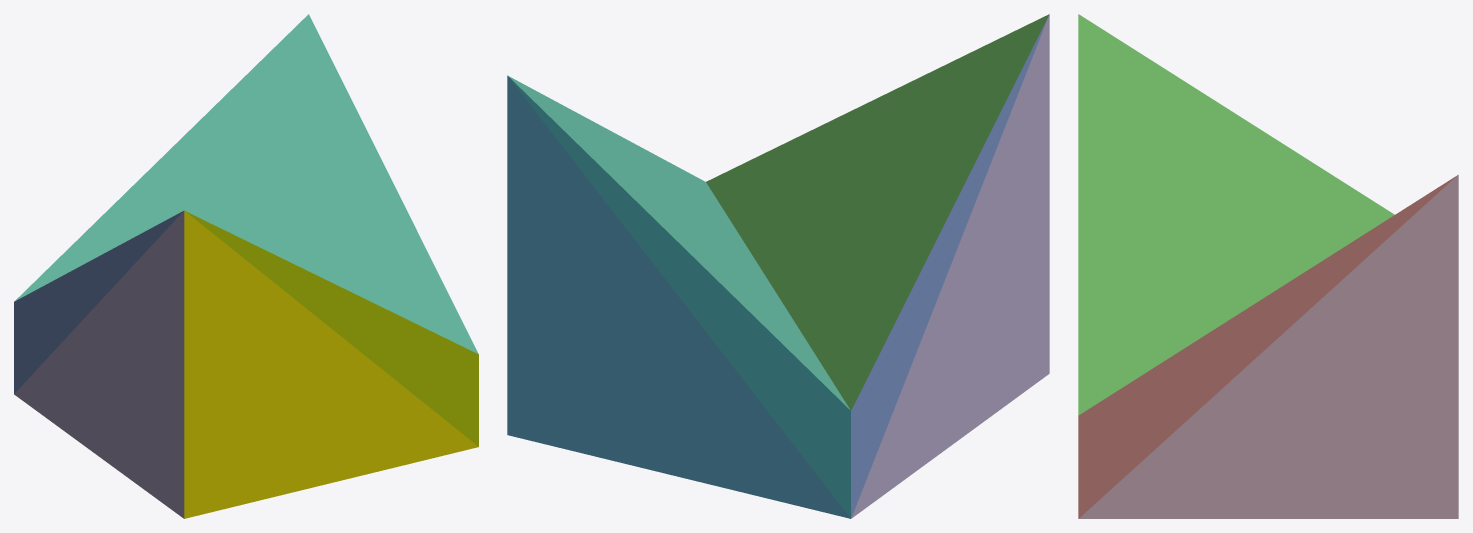
File: cube_bigdip.gltf
3 renders of one model, left to right at view 1: azimuth 30°, elevation 25°; view 2: azimuth 150°, elevation 25°; view 3: azimuth 270°, elevation 25°, orthographic. The views are drawn at different scales.
Visible parts, largest first — view 1: Cube.001; view 2: Cube.001; view 3: Cube.001.
Boxes of the visible parts, x1=… form: Cube.001: x1=14, y1=14, x2=478, y2=518; Cube.001: x1=507, y1=14, x2=1049, y2=518; Cube.001: x1=1078, y1=14, x2=1458, y2=518.
Bounding box in the file's own units: 1 × 1 × 1.
